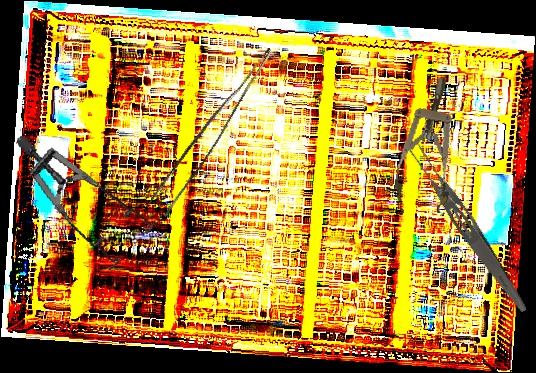Dressing Forceps: (404, 140, 536, 316)
Speculum: (14, 108, 166, 285), (390, 72, 471, 215)
Tissue Forceps: (147, 35, 273, 221)
